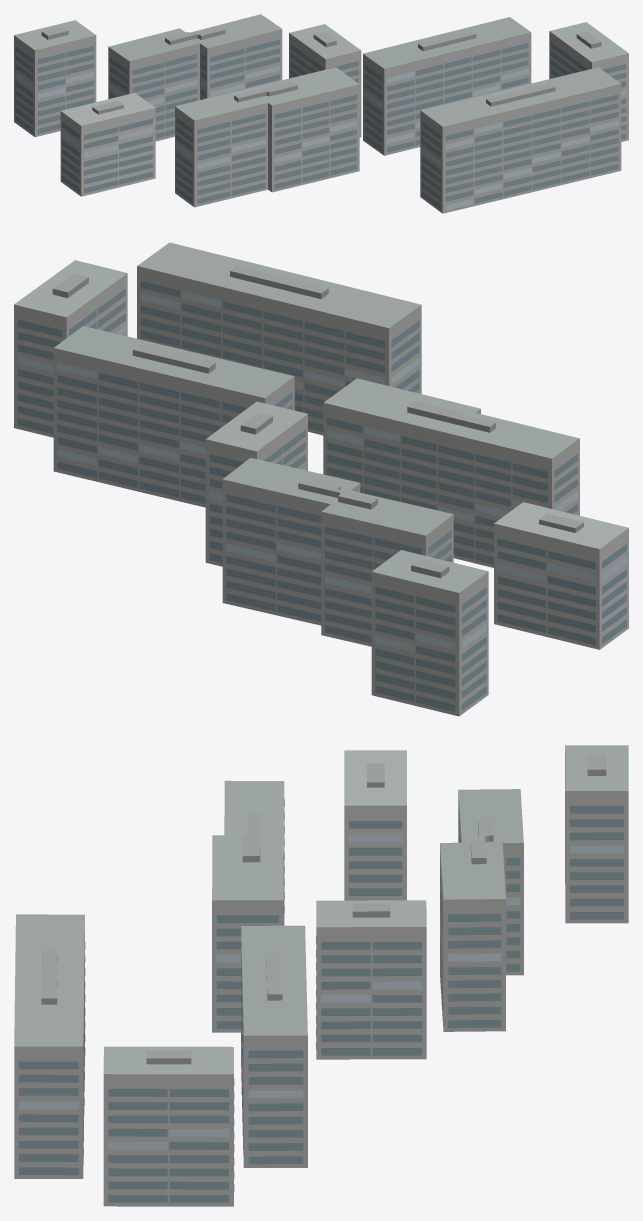
File: apt-a13785301.glb
The picture shows the model from 3 angles, top to bottom: view 1: azimuth 30°, elevation 25°; view 2: azimuth 150°, elevation 25°; view 3: azimuth 270°, elevation 25°; orthographic projection. The views are drawn at different scales.
Parts seen in each view (by area): view 1: apt-a13785301; view 2: apt-a13785301; view 3: apt-a13785301.
Part boxes in pixels (x1,y1,x2,y2): apt-a13785301: (14, 14, 628, 213); apt-a13785301: (14, 242, 628, 716); apt-a13785301: (14, 745, 628, 1206).
Size of the model in its own units: 146 by 27 by 109.
